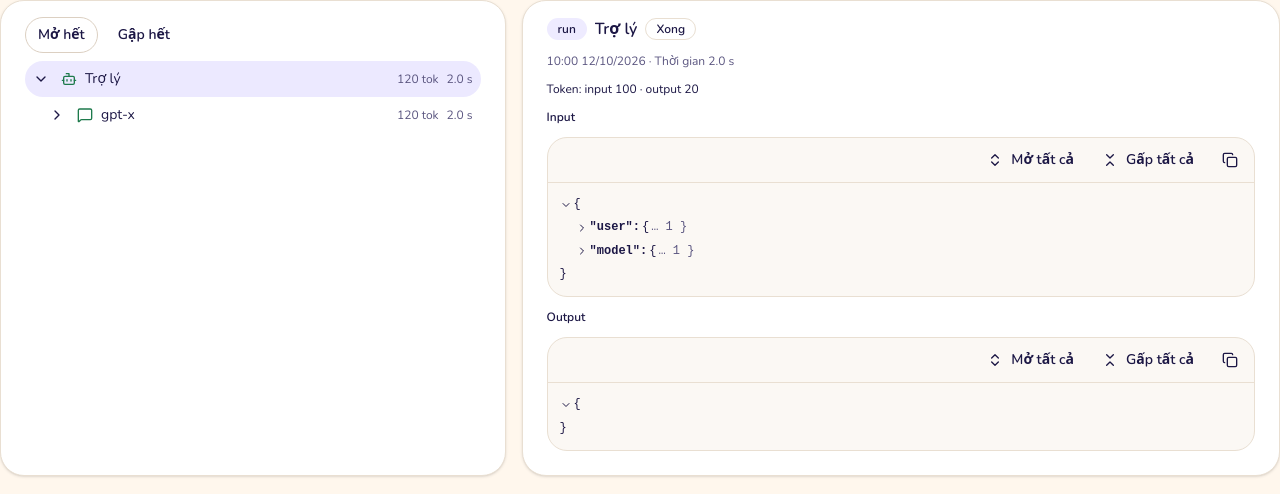
Test case: TraceDetail › cây span: mở / gập từng nút và mở / gập tất cả
The image size is (1280, 494).
Expected: the button with test id "span-run-sp-run" is shown, [61,65,473,93]
Expected: the button with test id "span-llm-sp-llm" is shown, [77,101,473,129]
Click the button with test id "span-toggle-sp-llm". click: (57,115)
box: [41,99,73,131]
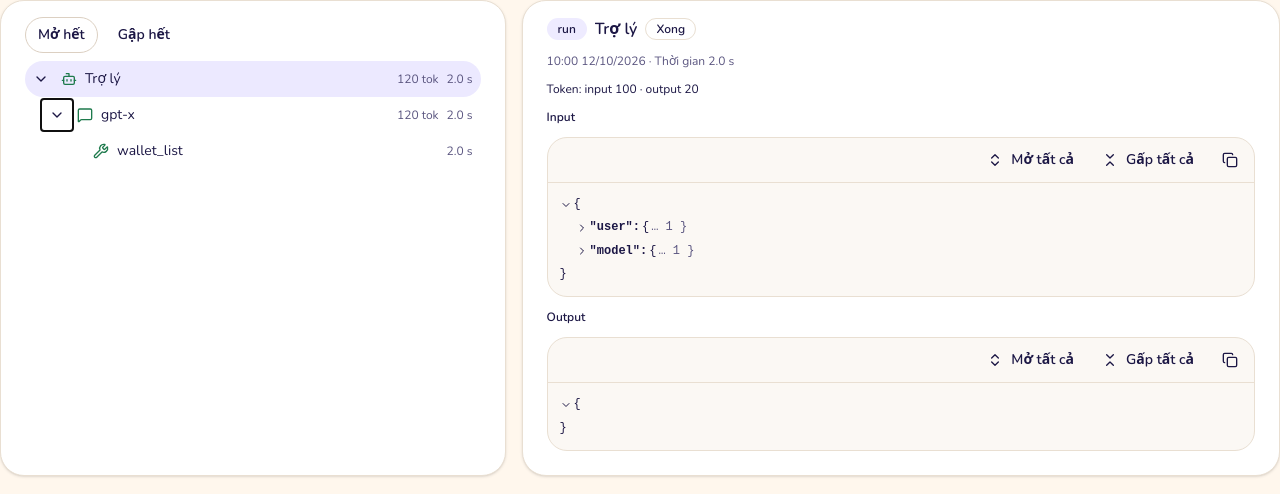
Expected: the button with test id "span-tool-sp-tool" is shown, [93,137,473,165]
Click the button with test id "span-toggle-sp-llm". click: (57,115)
box: [41,99,73,131]
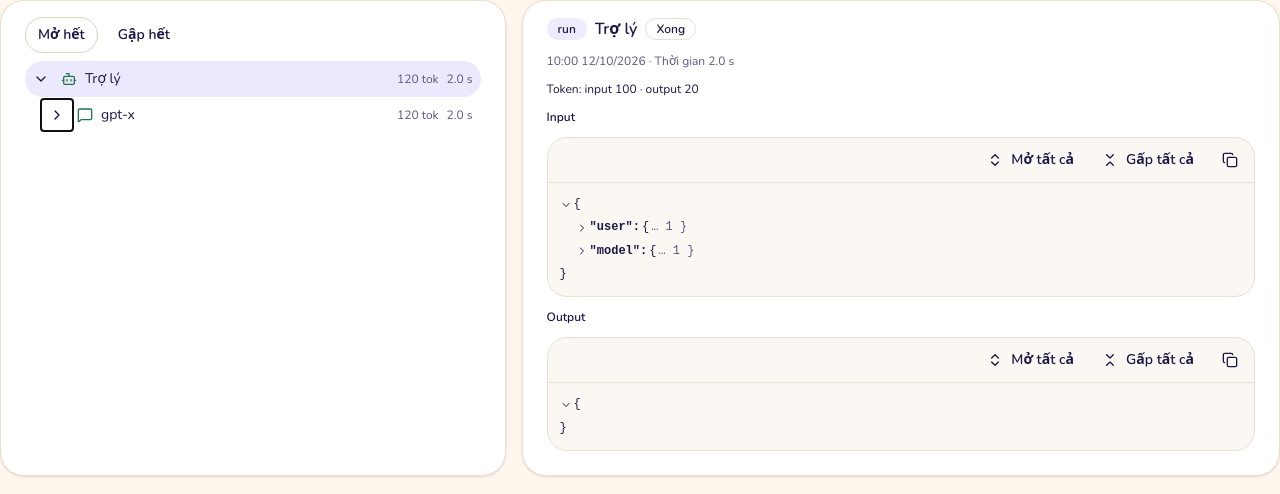
Expected: the button with test id "span-tool-sp-tool" is gone
Click the button with test id "span-toggle-sp-run". click: (41,79)
box: [25,63,57,95]
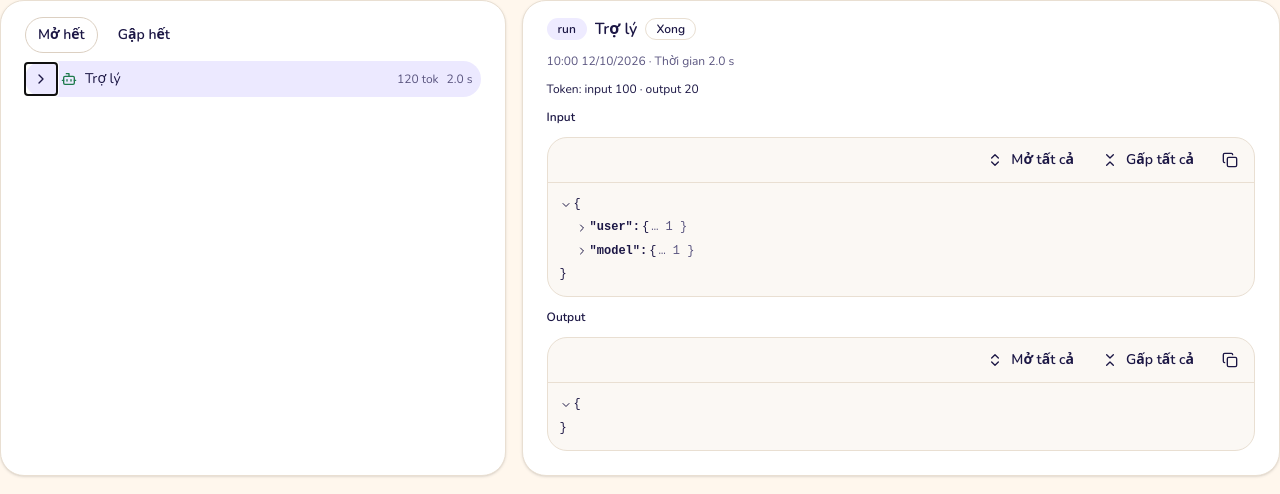
Expected: the button with test id "span-llm-sp-llm" is gone
Click the button with test id "spans-expand". click: (61,35)
box: [25,17,98,53]
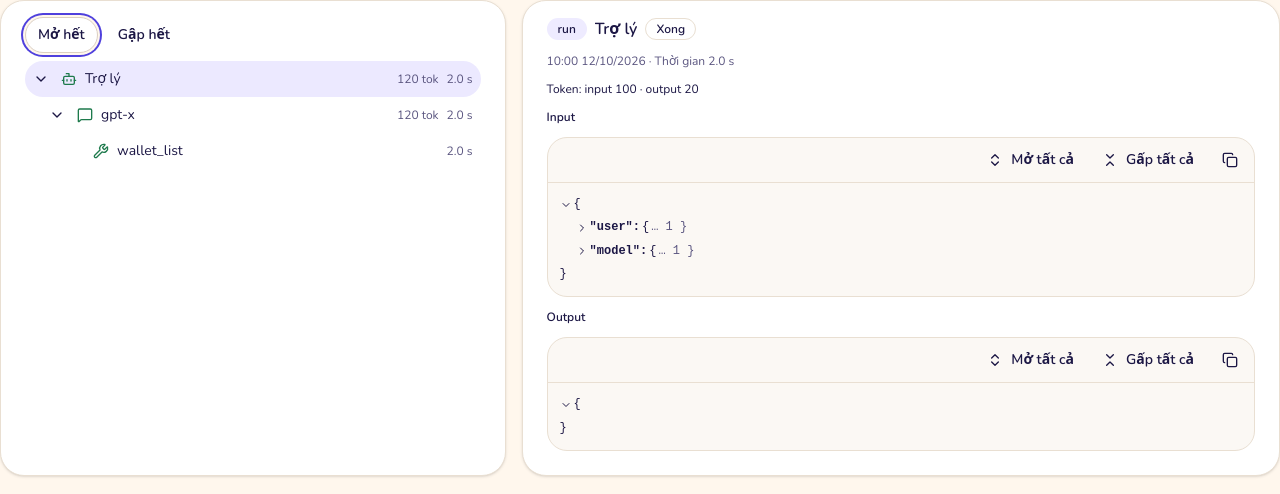
Expected: the button with test id "span-tool-sp-tool" is shown, [93,137,473,165]
Click the button with test id "spans-collapse". click: (144,35)
box: [106,17,182,53]
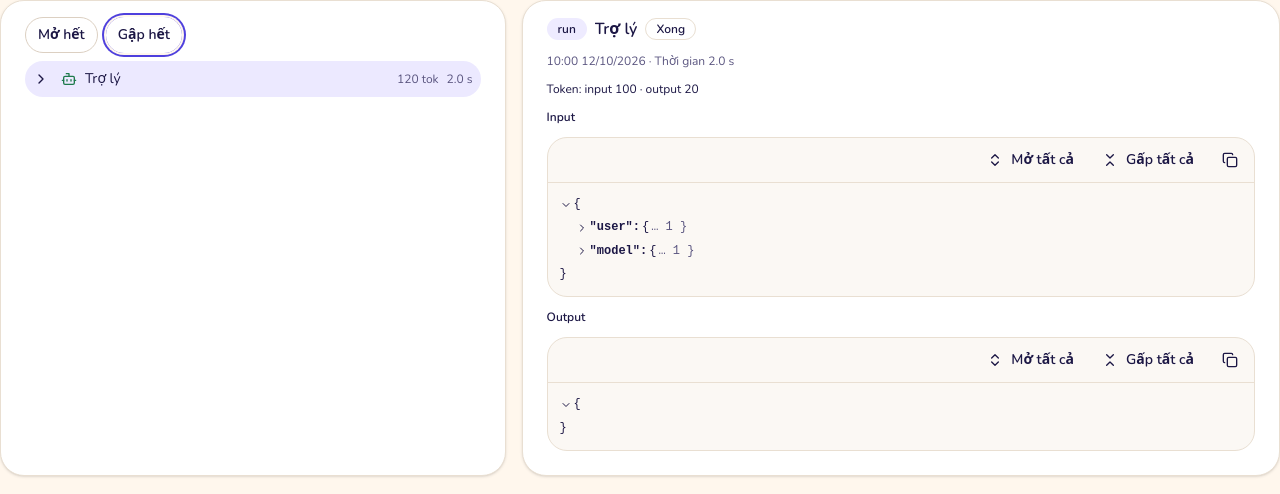
Expected: the button with test id "span-llm-sp-llm" is gone
